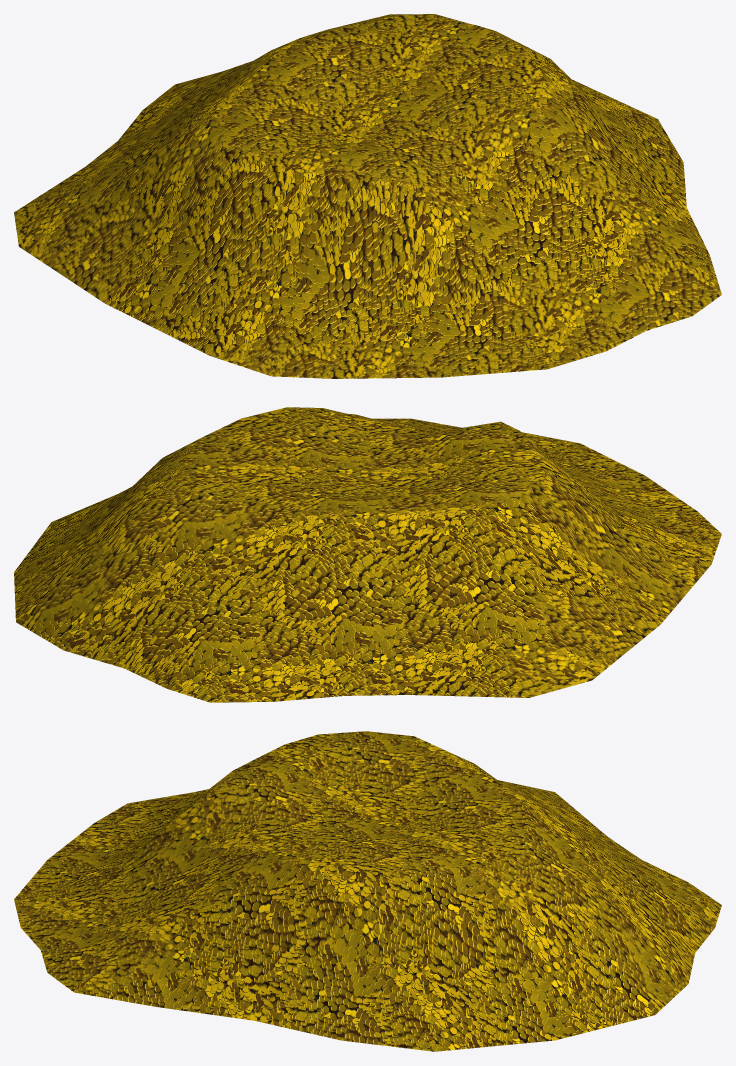
The model's file is INST_SM_GOLDPILE_LARGEC.fbx.
3 views of the same model, one above another, from view 1: azimuth 30°, elevation 25°; view 2: azimuth 150°, elevation 25°; view 3: azimuth 270°, elevation 25° (orthographic). The views are drawn at different scales.
Parts seen in each view (by area): view 1: INST_SM_GOLDPILE_LARGEC; view 2: INST_SM_GOLDPILE_LARGEC; view 3: INST_SM_GOLDPILE_LARGEC.
Part boxes in pixels (box(x1,y1,x2,y2)): INST_SM_GOLDPILE_LARGEC: box(14, 14, 721, 378); INST_SM_GOLDPILE_LARGEC: box(14, 407, 721, 702); INST_SM_GOLDPILE_LARGEC: box(14, 731, 721, 1051).
Bounding box in the file's own units: 121250 × 22500 × 132500.
Materials: 1 (1 with a texture image).
